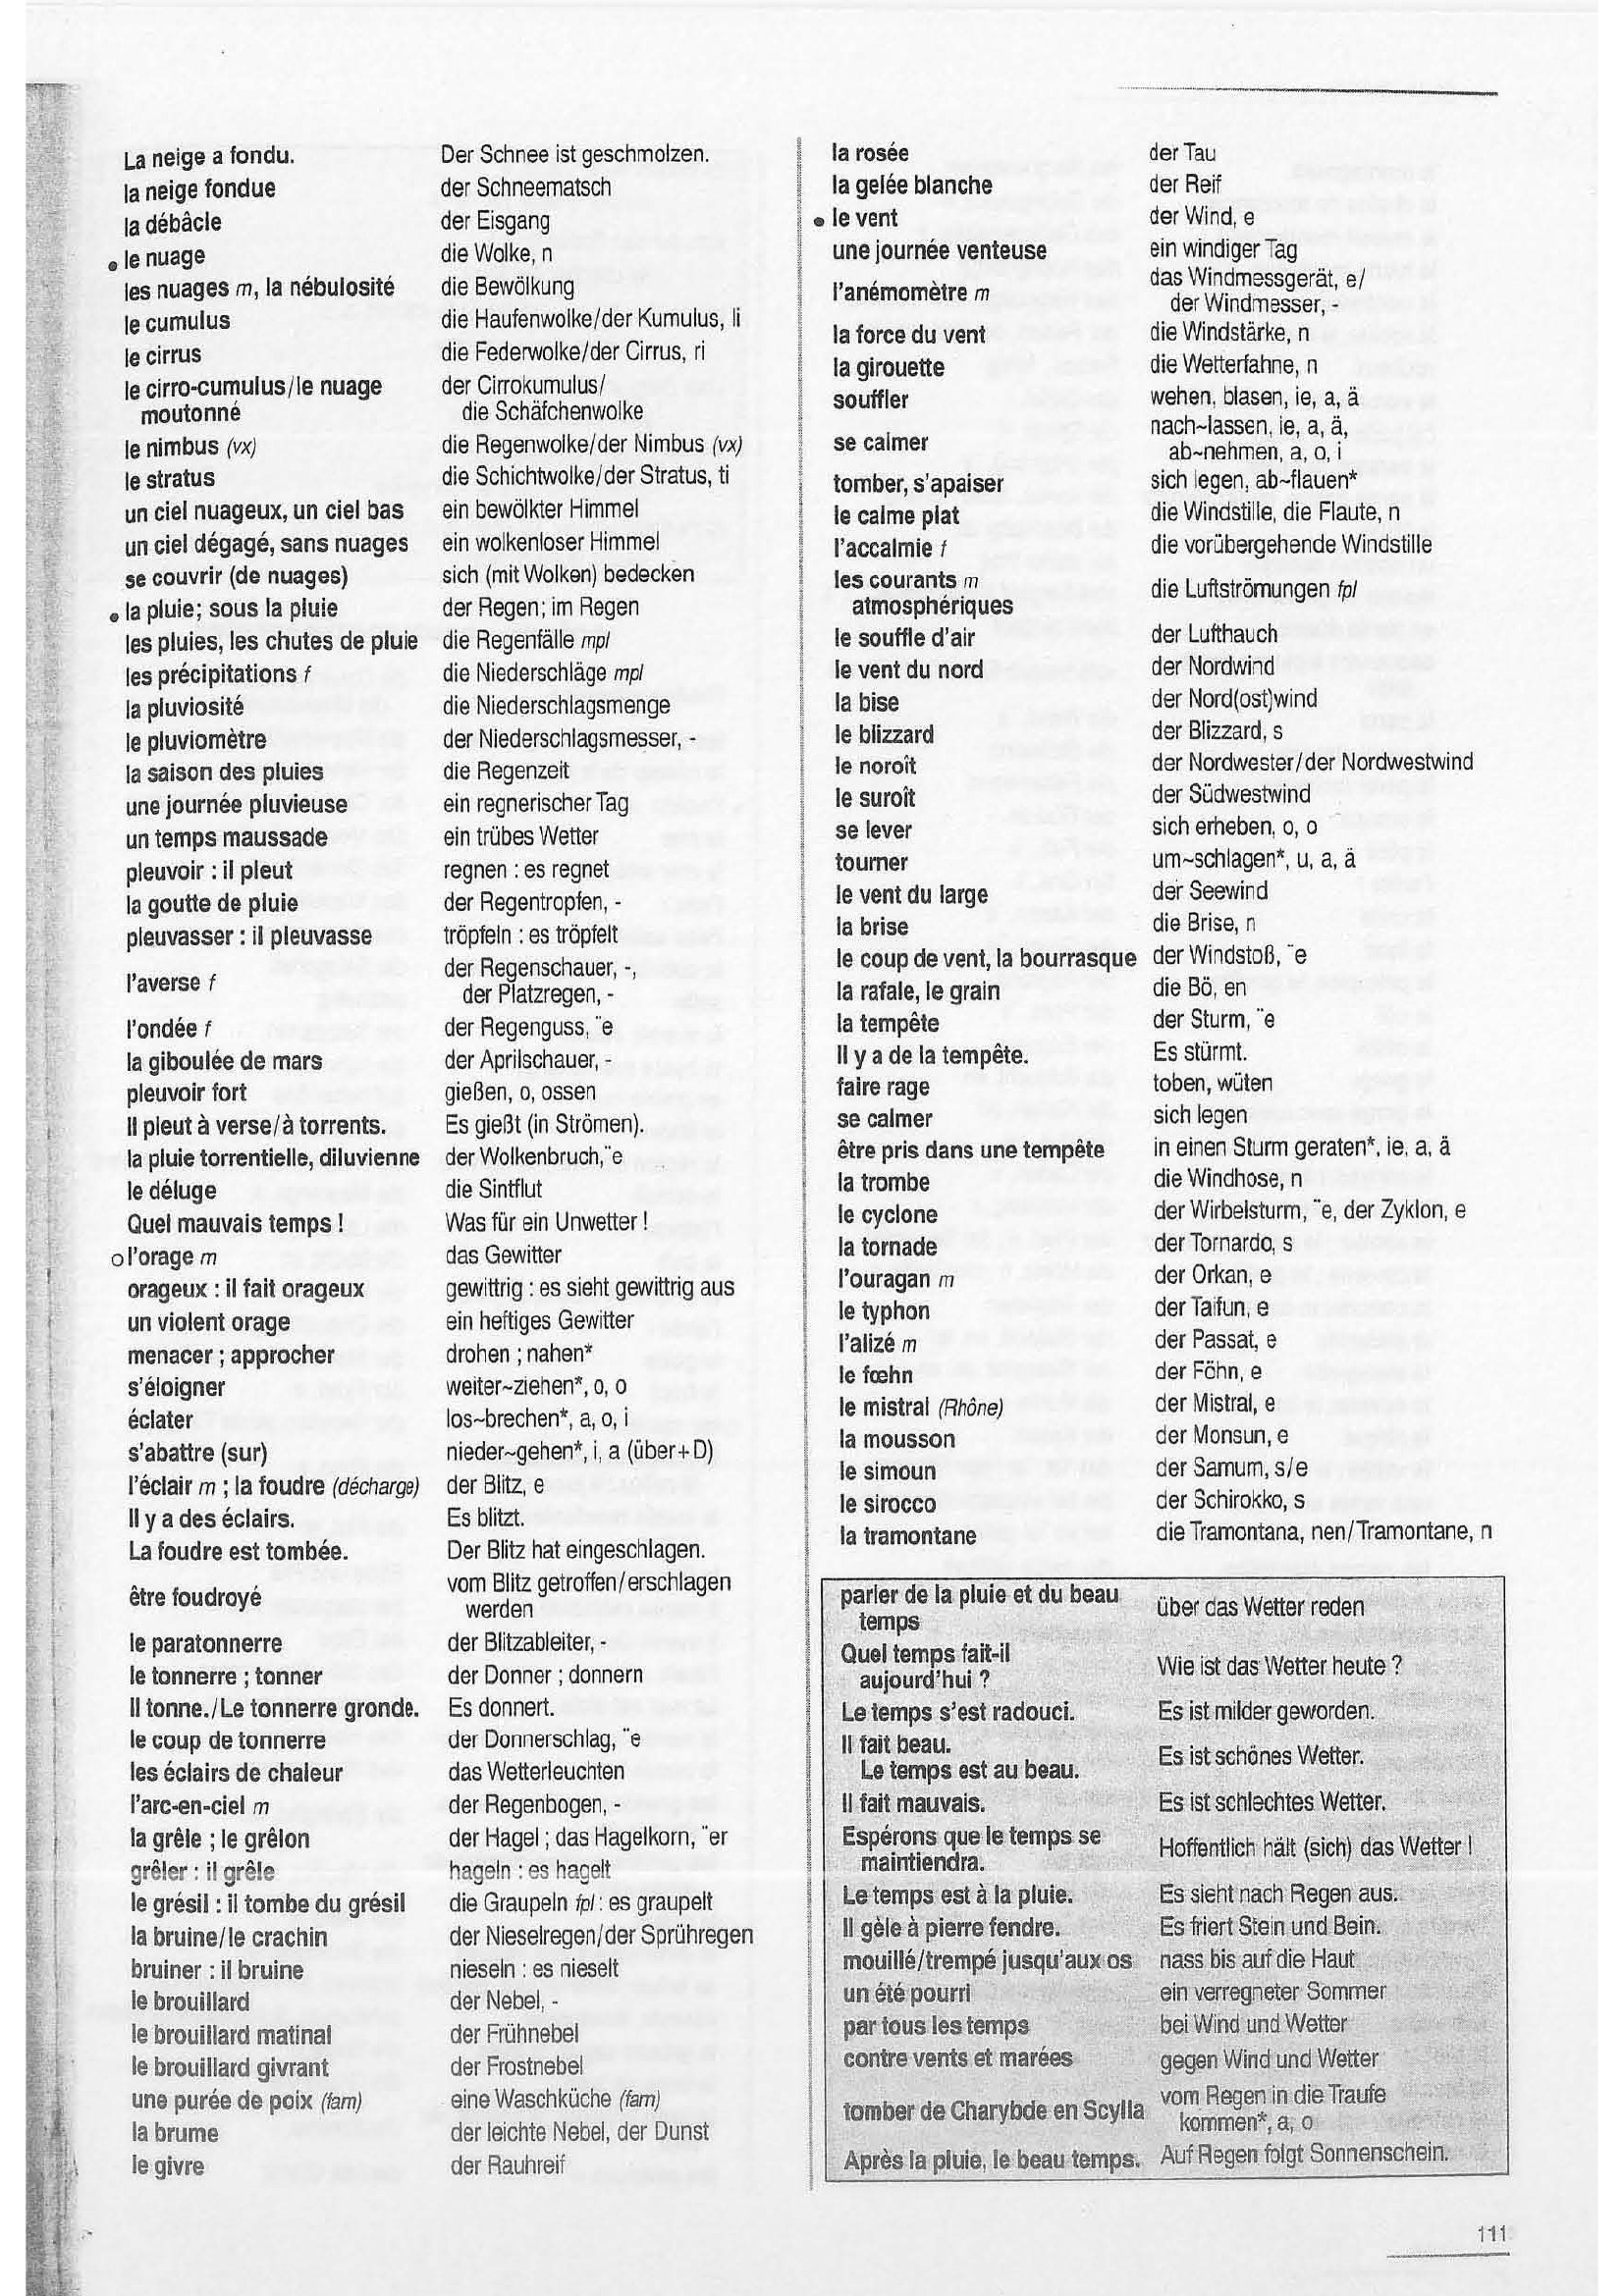French_voc: (98, 130, 401, 2198), (812, 142, 1102, 1558)
German_voc: (418, 123, 807, 2203), (1127, 123, 1552, 1570)
